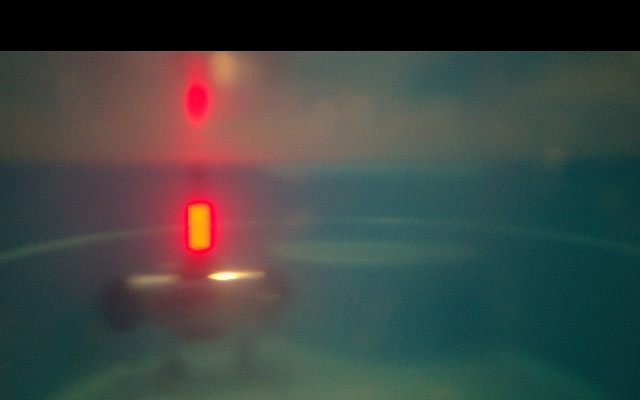red: (186, 200, 210, 256)
